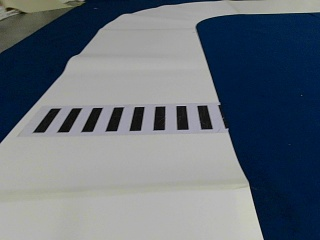crosswalk: (36, 105, 218, 133)
